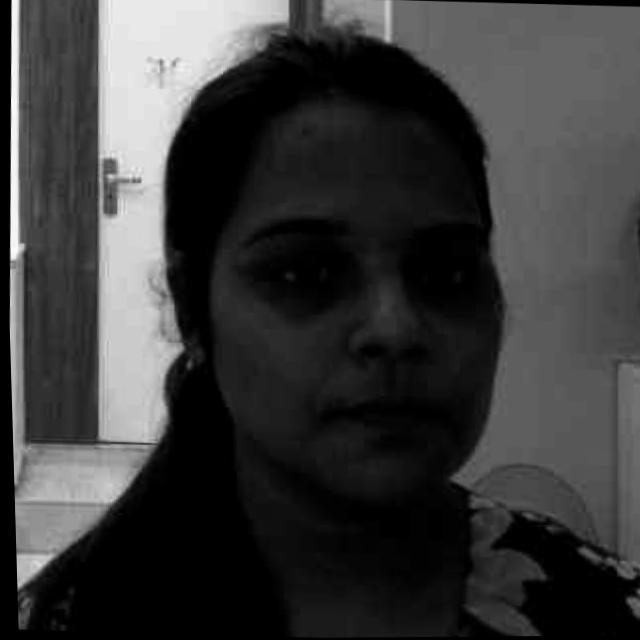puffy_eyes: (396, 266, 498, 320), (264, 285, 347, 315)
